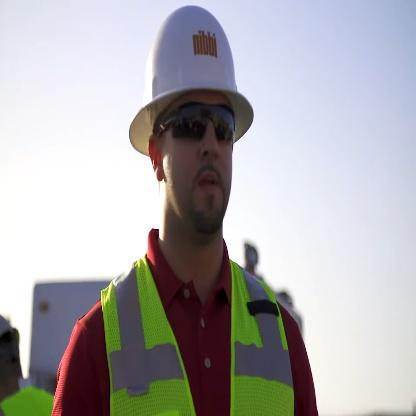helmet: (118, 0, 249, 233)
